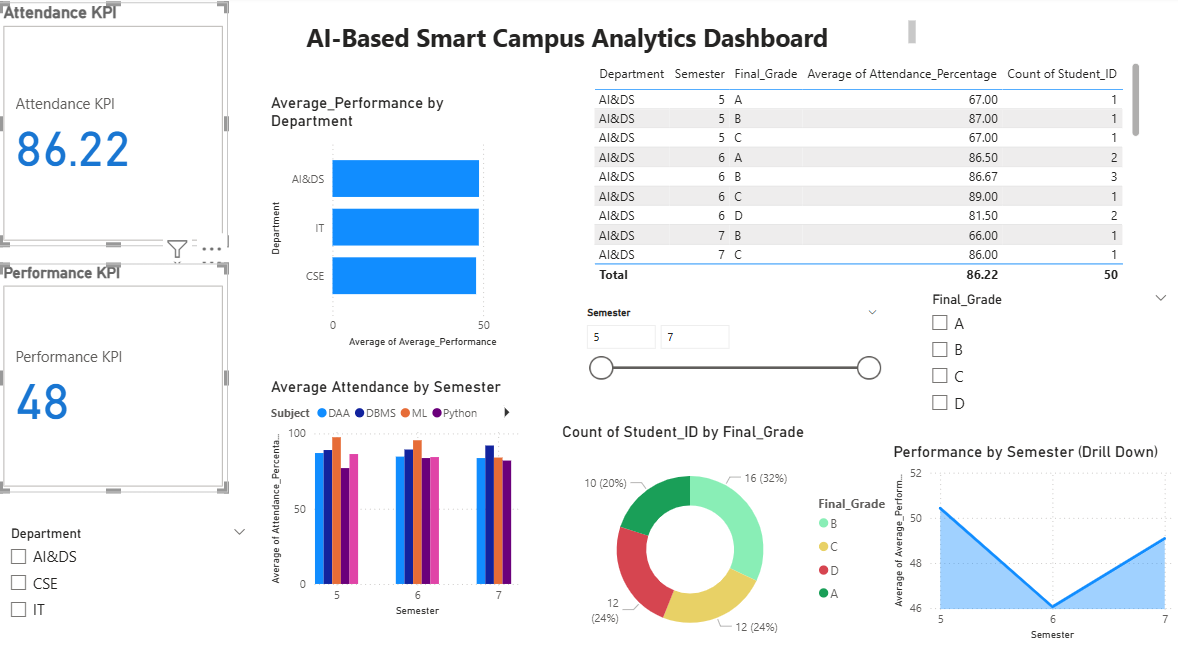

The dashboard page shown, as its layout file describes it:
{"tool":"powerbi","page":{"name":"Page 1","canvas":[1280,720],"ordinal":0},"visuals":[{"type":"cardVisual","title":"Attendance KPI","fields":{"Data":["Avg(5 student_performance.Attendance_Percentage)"]},"box":[0,7.1,248.6,264.3],"z":0},{"type":"cardVisual","title":"Performance KPI","fields":{"Data":["Avg(5 student_performance.Average_Performance)"]},"box":[0,290,248,248],"z":1000},{"type":"slicer","fields":{"Values":["5 student_performance.Department"]},"box":[0,570,280,150],"z":2000},{"type":"slicer","fields":{"Values":["5 student_performance.Semester"]},"box":[625.7,332.9,340,104.3],"z":3000},{"type":"clusteredBarChart","title":"Average_Performance by Department","fields":{"Category":["5 student_performance.Department"],"Y":["Avg(5 student_performance.Average_Performance)"]},"box":[290,105.7,280,280],"z":4000},{"type":"clusteredColumnChart","title":"Average Attendance by Semester","fields":{"Category":["5 student_performance.Semester"],"Y":["Avg(5 student_performance.Attendance_Percentage)"],"Series":["5 student_performance.Subject"]},"box":[290,414.3,280,264.3],"z":5000},{"type":"tableEx","fields":{"Values":["5 student_performance.Department","5 student_performance.Semester","5 student_performance.Final_Grade","Avg(5 student_performance.Attendance_Percentage)","CountNonNull(5 student_performance.Student_ID)"]},"box":[640,67.1,602.9,248.6],"z":6000},{"type":"donutChart","fields":{"Category":["5 student_performance.Final_Grade"],"Y":["CountNonNull(5 student_performance.Student_ID)"]},"box":[605.7,462.9,378.6,257.1],"z":7000},{"type":"slicer","fields":{"Values":["5 student_performance.Final_Grade"]},"box":[1000,315.7,280,147.1],"z":8000},{"type":"areaChart","title":"Performance by Semester (Drill Down)","fields":{"Category":["5 student_performance.Department","5 student_performance.Semester","5 student_performance.Student_ID"],"Y":["Avg(5 student_performance.Average_Performance)"]},"box":[965.7,484.3,314.3,220],"z":9000},{"type":"textbox","box":[328.6,21.4,671.4,45.7],"z":11000}]}

Visuals, with their boxes in screenshot pixels (x1, y1, x2, y2):
"Attendance KPI" cardVisual: Rect(101, 0, 318, 218)
"Performance KPI" cardVisual: Rect(101, 234, 317, 450)
slicer - 5 student_performance.Department: Rect(101, 478, 345, 609)
slicer - 5 student_performance.Semester: Rect(646, 272, 943, 363)
"Average_Performance by Department" clusteredBarChart: Rect(354, 74, 598, 318)
"Average Attendance by Semester" clusteredColumnChart: Rect(354, 343, 598, 573)
tableEx - 5 student_performance.Department x 5 student_performance.Semester: Rect(659, 40, 1177, 257)
donutChart - 5 student_performance.Final_Grade x CountNonNull(5 student_performance.Student_ID): Rect(629, 385, 959, 609)
slicer - 5 student_performance.Final_Grade: Rect(973, 257, 1177, 385)
"Performance by Semester (Drill Down)" areaChart: Rect(943, 404, 1177, 595)
textbox: Rect(388, 0, 973, 40)
